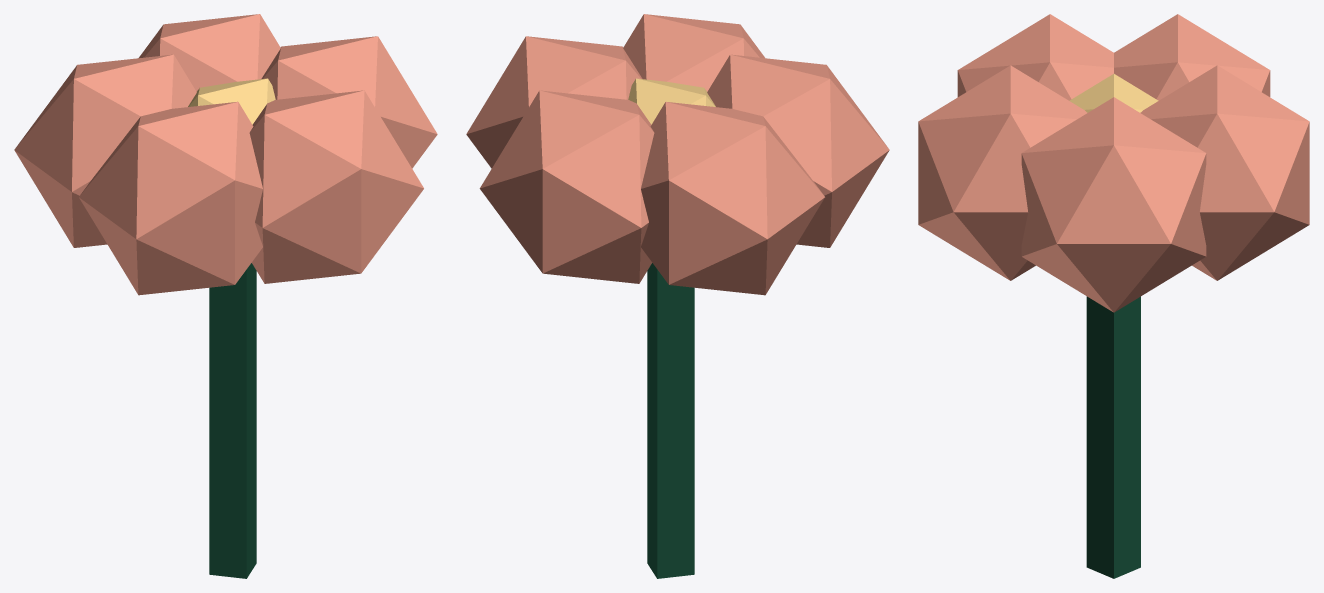
File: flower.glb
3 renders of one model, left to right at view 1: azimuth 30°, elevation 25°; view 2: azimuth 150°, elevation 25°; view 3: azimuth 270°, elevation 25°, orthographic.
Parts seen in each view (by area): view 1: FlowerMesh; view 2: FlowerMesh; view 3: FlowerMesh.
Part boxes in pixels (x1,y1,x2,y2): FlowerMesh: [14, 14, 437, 578]; FlowerMesh: [466, 14, 889, 578]; FlowerMesh: [918, 14, 1309, 578].
Bounding box in the file's own units: 0.351 × 0.5001 × 0.3603.
Materials: 1 (1 with a texture image).
